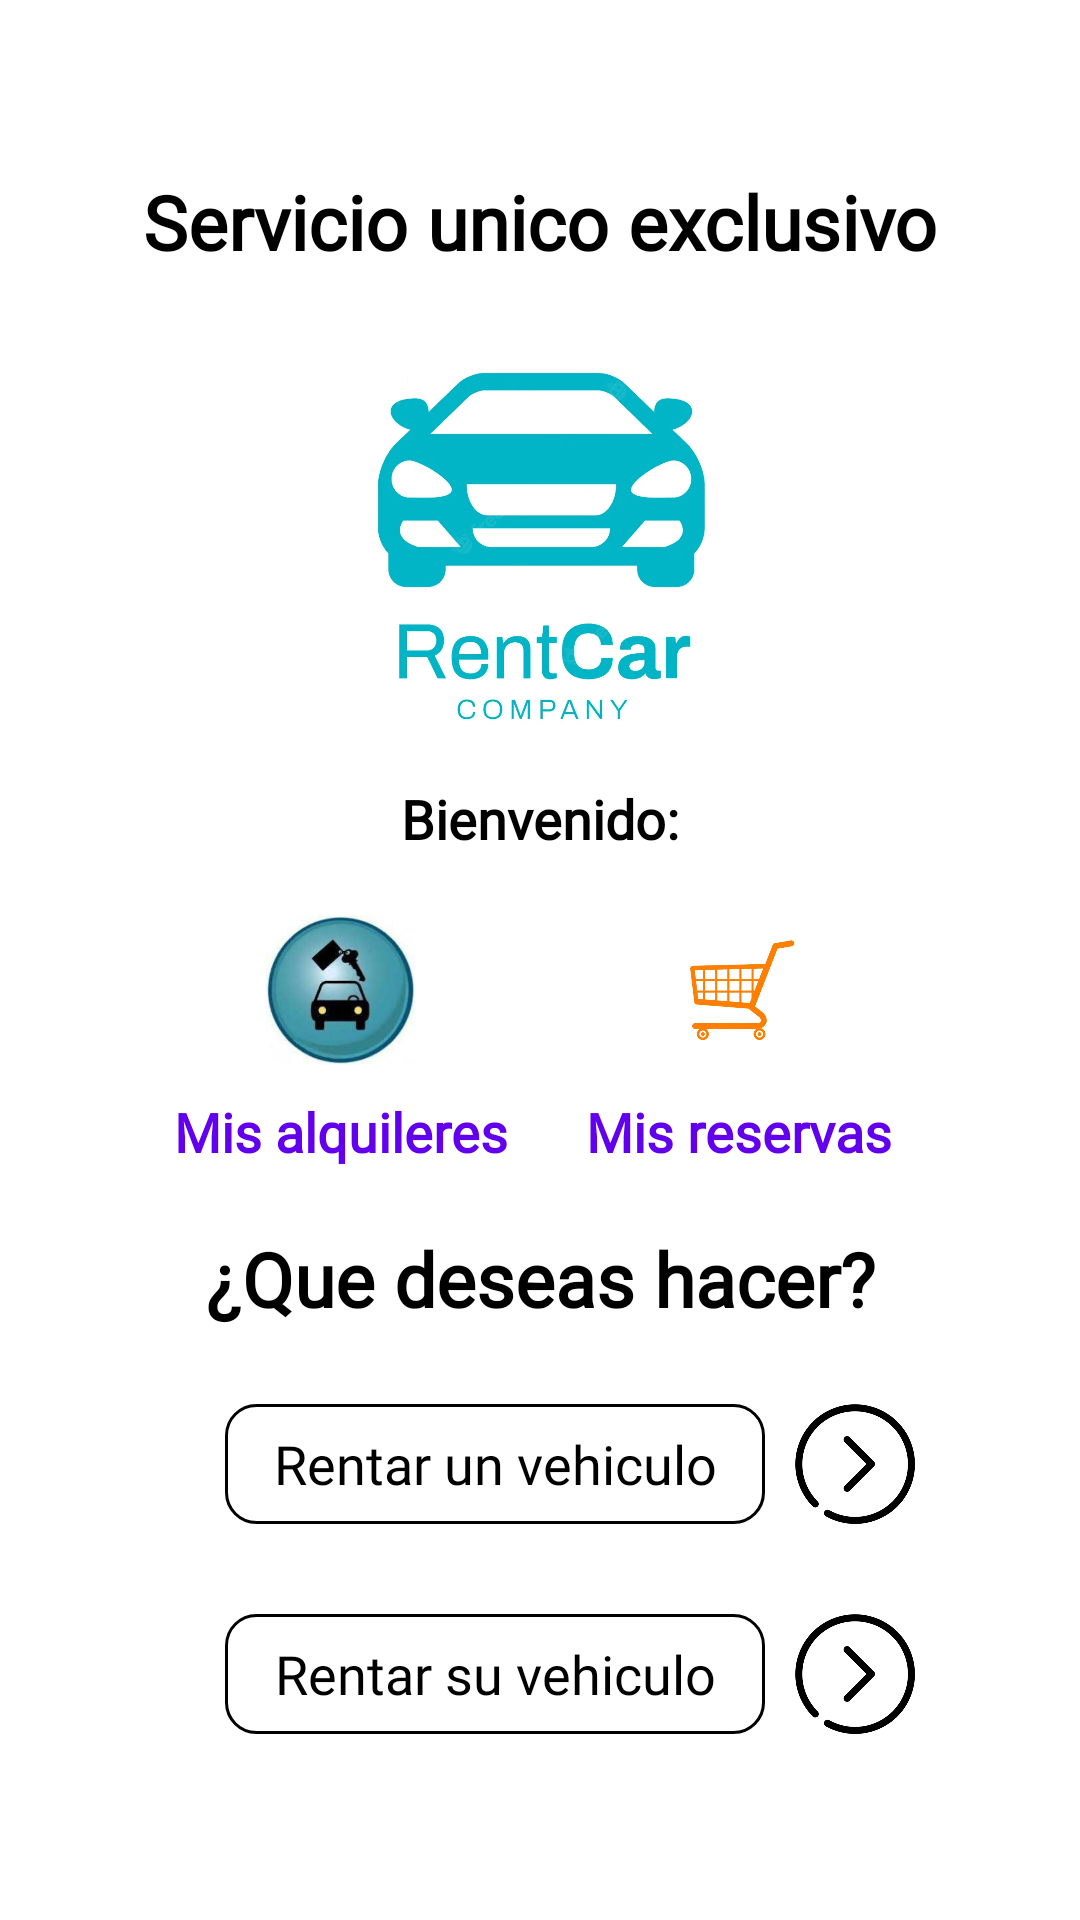

Icon click points for this 1080px×1920px phone screenshot, format point (x, y):
car: point (340, 990)
next: point (855, 1464), point (855, 1674)
store: point (742, 990)
